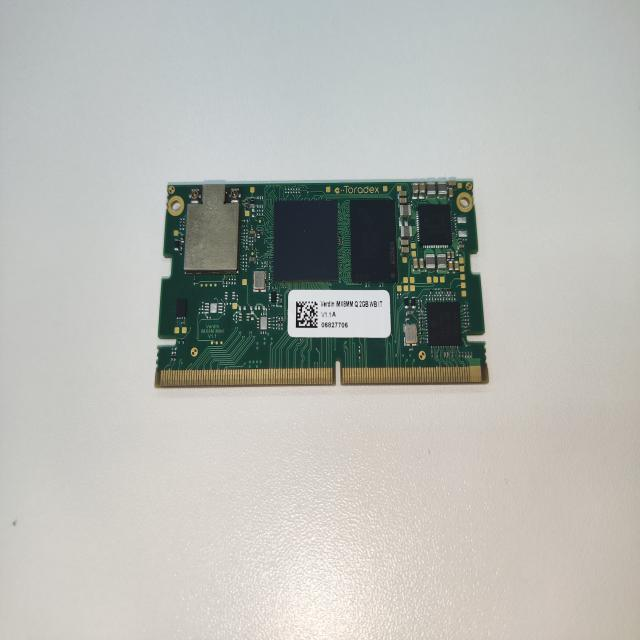som: (147, 173, 490, 394)
